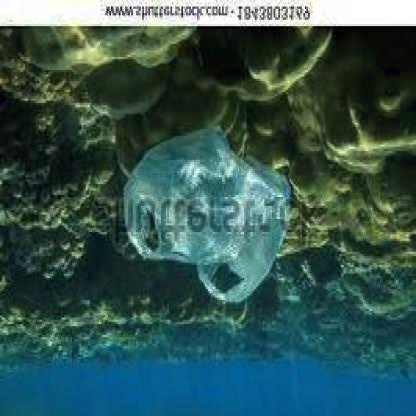pbag: (122, 127, 288, 300)
